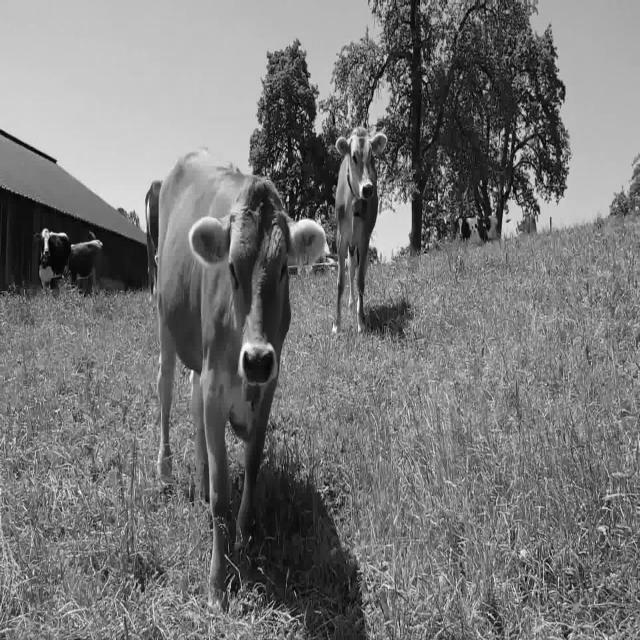cow: (146, 150, 325, 609), (332, 128, 386, 334)
